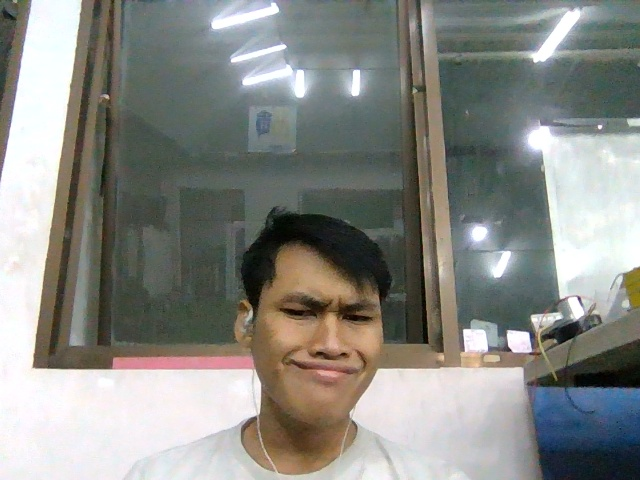mask_off: (250, 347, 398, 429)
